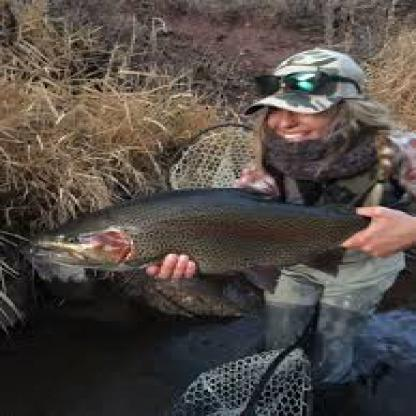fish: (30, 191, 414, 283)
